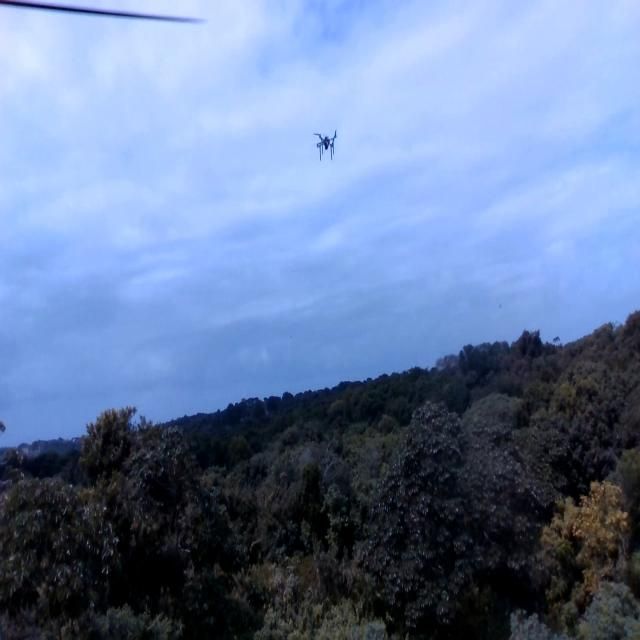-uav-: (310, 118, 347, 172)
